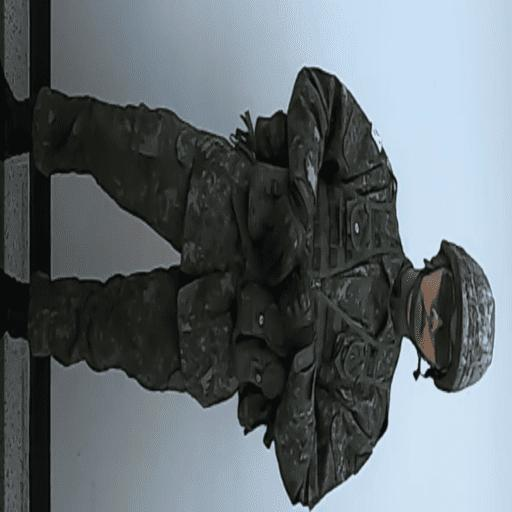korea army: (26, 64, 496, 509)
